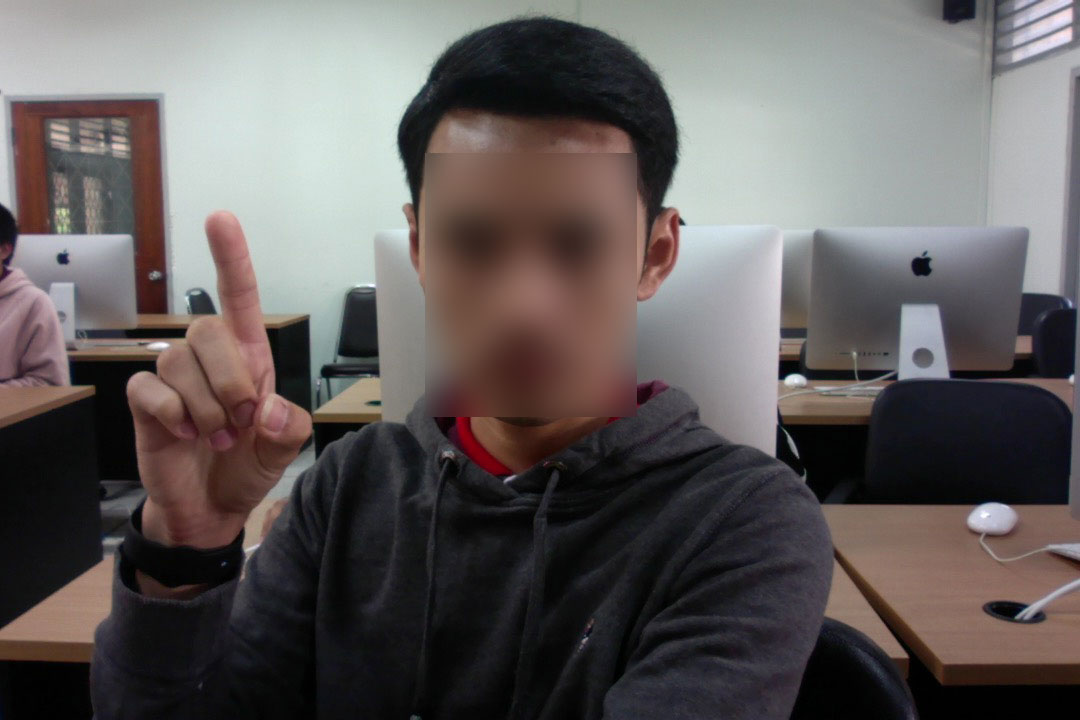dor: (117, 204, 320, 532)
